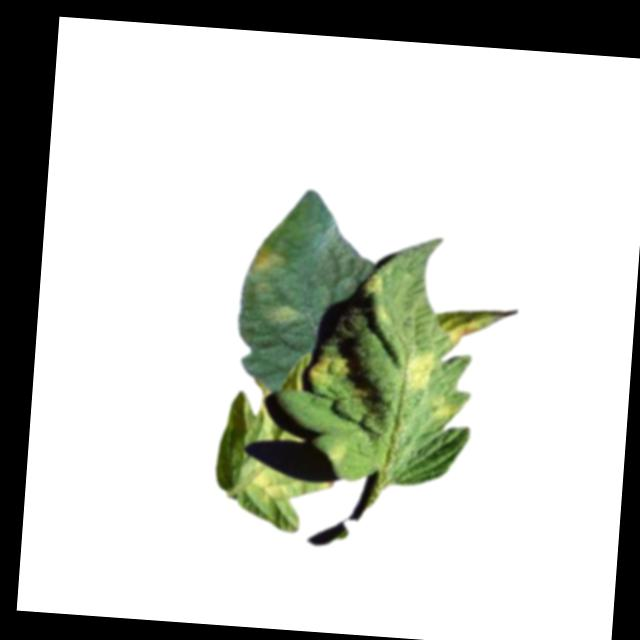Leaf_Mold: (435, 304, 513, 350), (242, 461, 290, 505), (304, 351, 349, 389), (401, 345, 435, 393), (245, 245, 286, 279), (421, 398, 467, 425), (260, 301, 304, 329)
